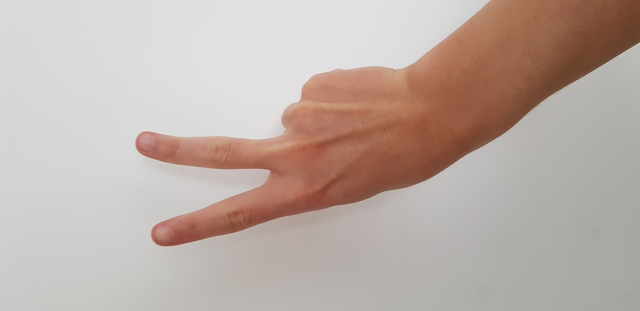Scissors: (113, 42, 494, 262)
